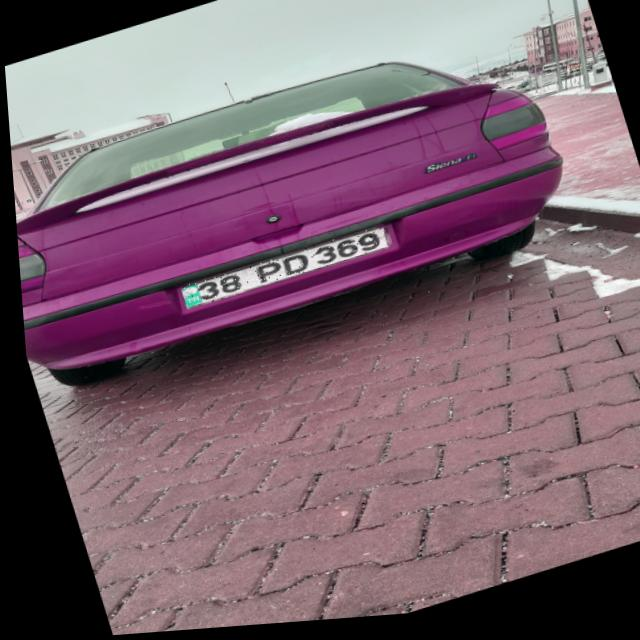license_plate: (173, 228, 391, 312)
